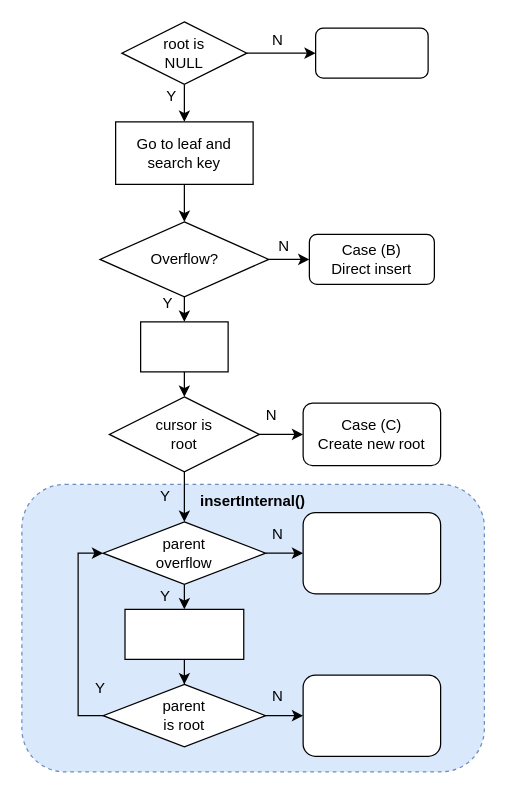
Some shapes in this 506 by 794 pixel diagram are drawn without their labels. The shapes that lost their labels are listed below. From the top down, each one's centre as x and y in pixels, then its label:
point (371, 52): Case (A) New node
point (183, 346): split
point (371, 552): Case (D) Insert key and link parent
point (184, 633): split parent
point (371, 715): Case (E) Create new root
